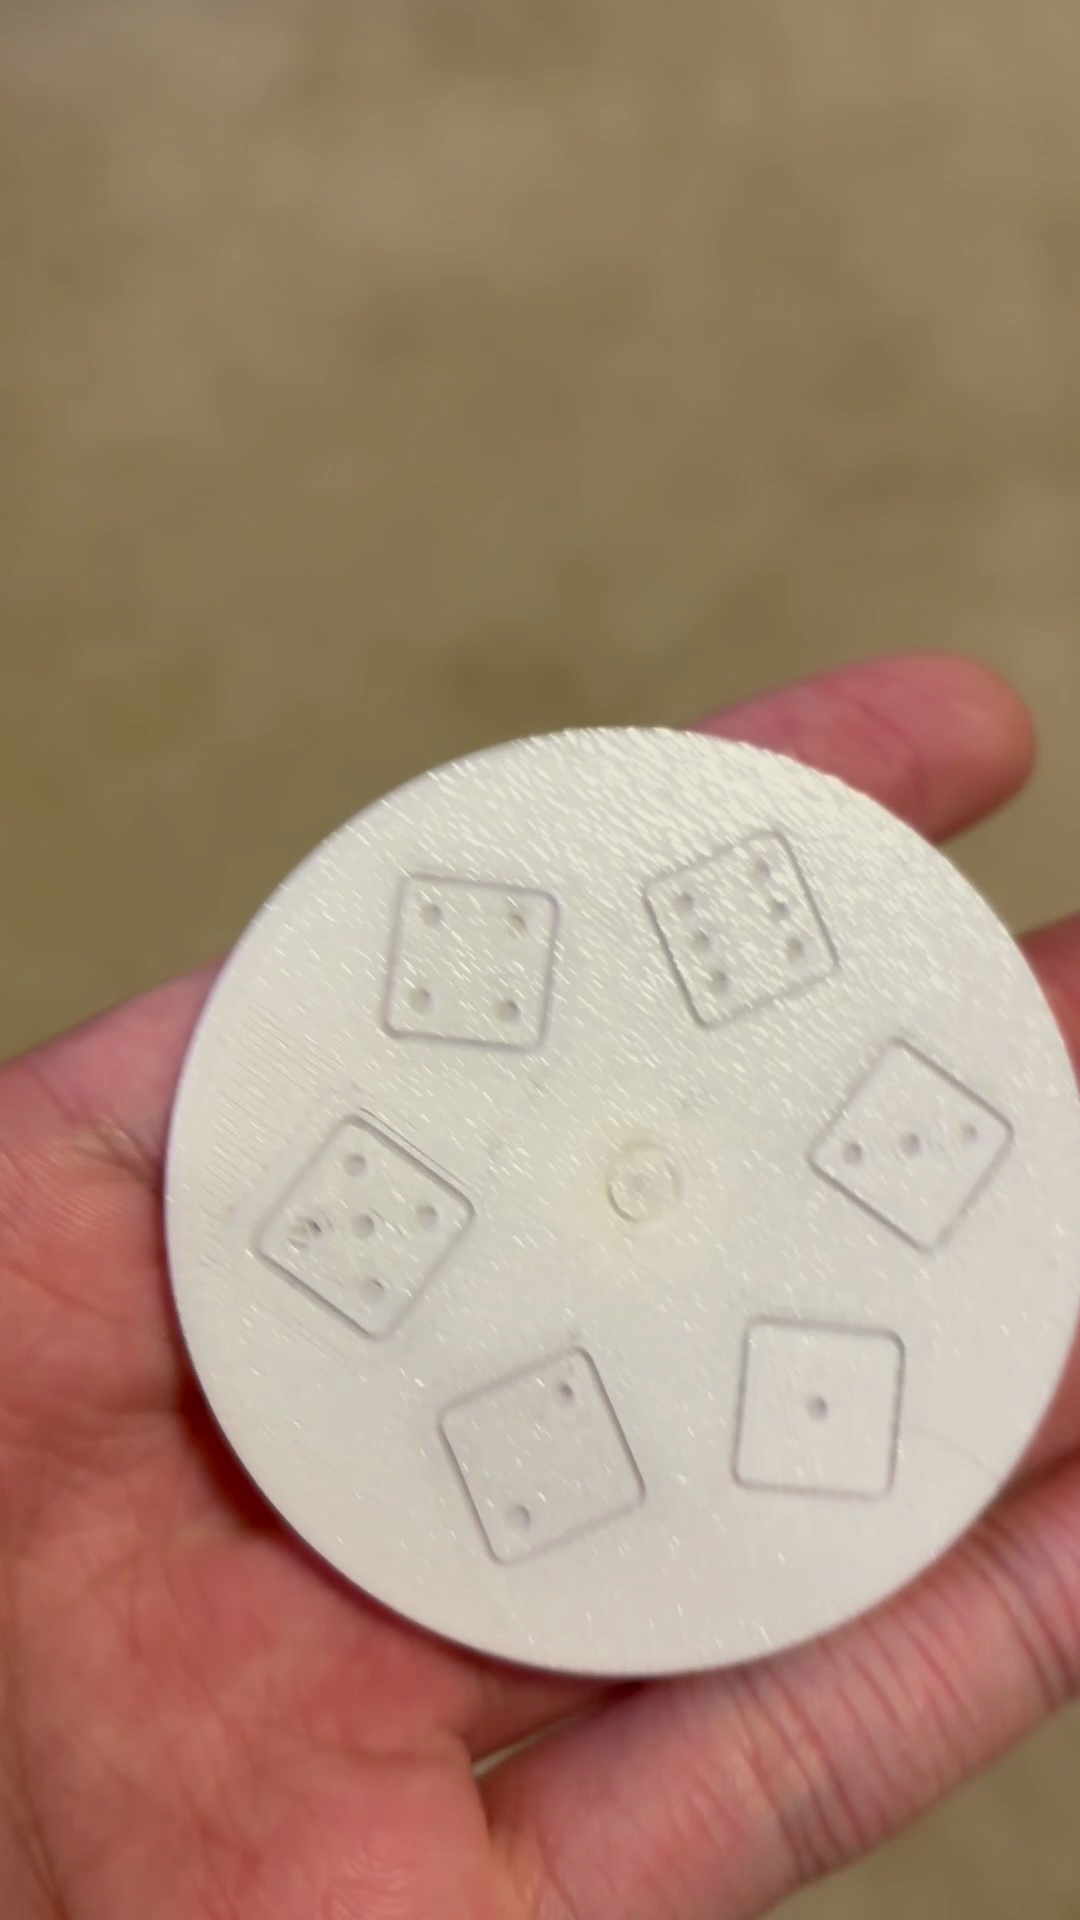Part1: (165, 729, 1079, 1677)
